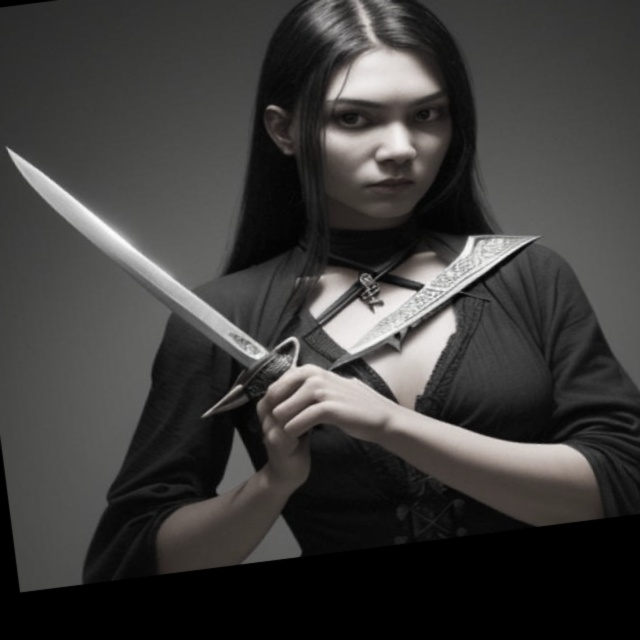Sharp-Object: (0, 106, 321, 444)
